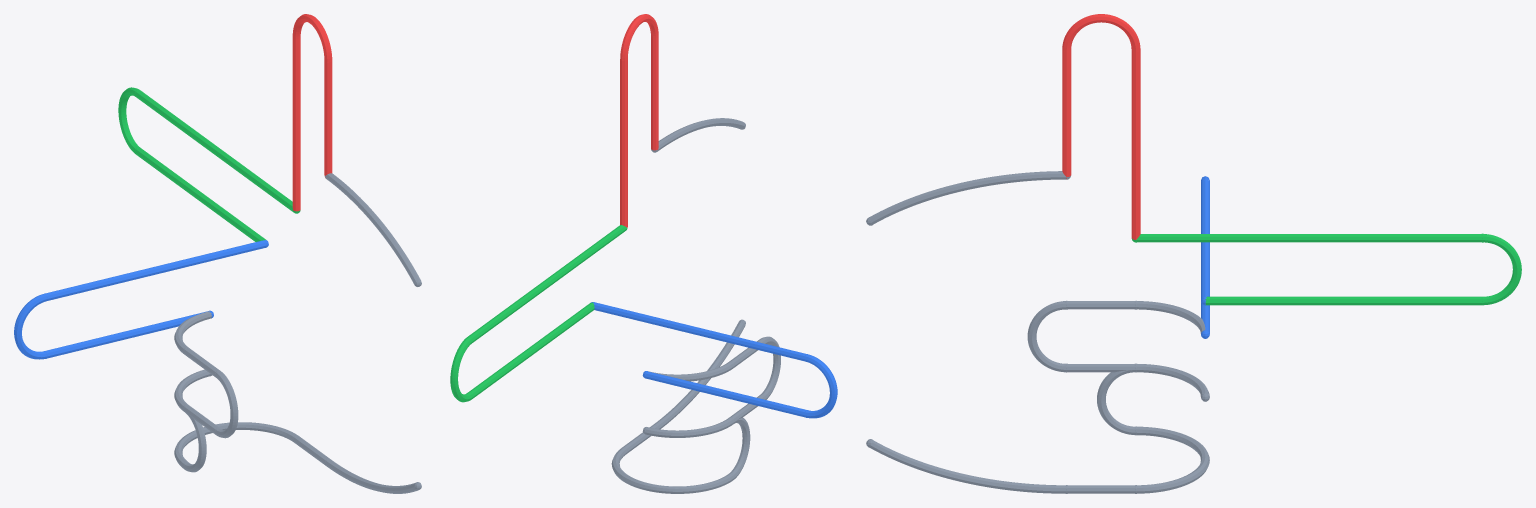
Rendered from hand_right_three-axis_thick-outline_u8_v1.glb.
3 views of the same model, side by side, from view 1: azimuth 30°, elevation 25°; view 2: azimuth 150°, elevation 25°; view 3: azimuth 270°, elevation 25° (orthographic). The views are drawn at different scales.
Size of the model in its own units: 5.7 by 9.39 by 11.64.
